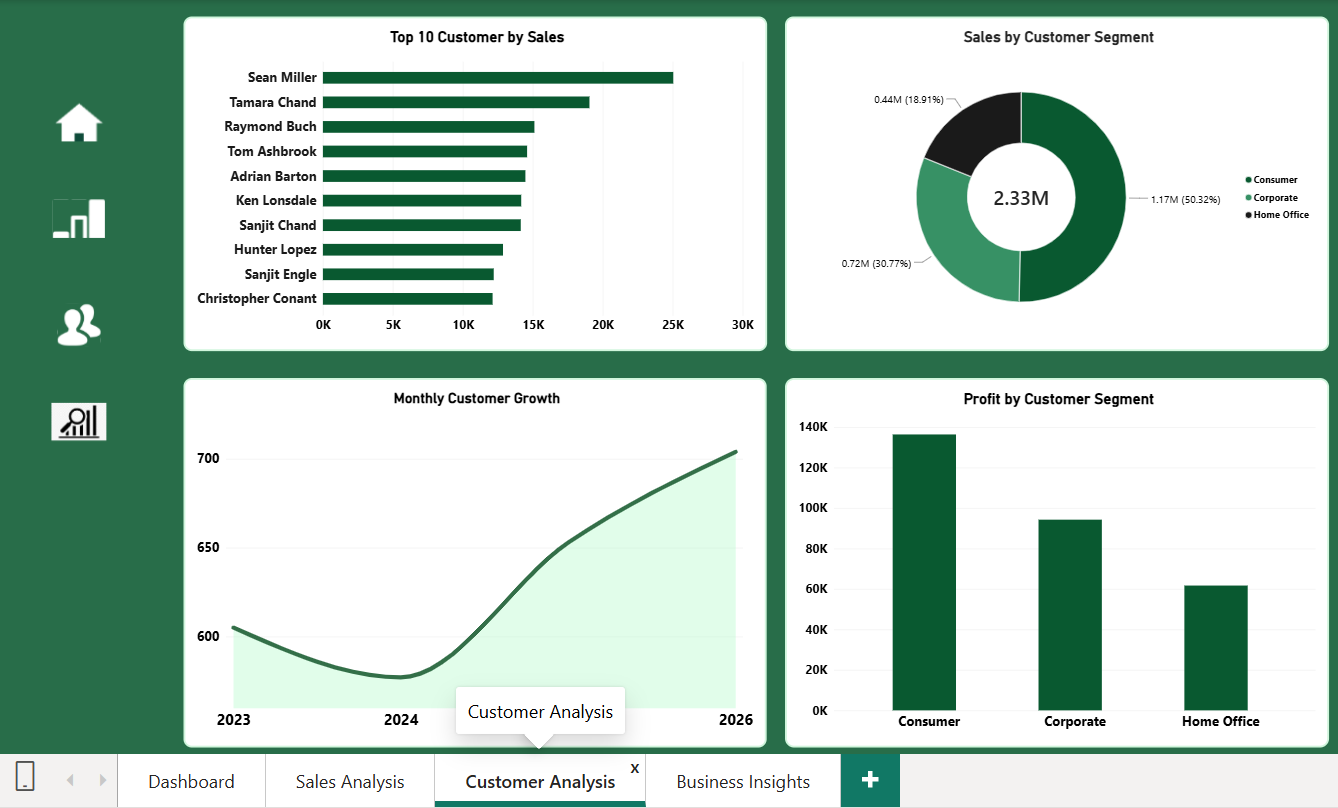

This screenshot's page, from the dashboard's own definition file:
{"tool":"powerbi","page":{"name":"Customer Analysis","canvas":[1920,1080],"ordinal":2},"visuals":[{"type":"actionButton","box":[64.4,133.6,100.2,69.2],"z":0},{"type":"actionButton","box":[64.4,281.5,100.2,59.6],"z":1000},{"type":"actionButton","box":[64.4,429.5,100.2,71.6],"z":2000},{"type":"actionButton","box":[64.4,555.9,100.2,95.4],"z":3000},{"type":"donutChart","title":"Sales by Customer Segment","fields":{"Category":["superstore_project orders.Segment"],"Y":["Sum(superstore_project orders.Sales)"]},"box":[1125.4,22.7,779.5,479.1],"z":4000},{"type":"clusteredBarChart","title":"Top 10 Customer by Sales","fields":{"Category":["superstore_project orders.Customer_Name"],"Y":["Sum(superstore_project orders.Sales)"]},"box":[263.6,22.7,836.2,479.1],"z":5000},{"type":"clusteredColumnChart","title":"Profit by Customer Segment","fields":{"Category":["superstore_project orders.Segment"],"Y":["Sum(superstore_project orders.Profit)"]},"box":[1126.5,541.2,779.4,529.4],"z":6000},{"type":"lineChart","title":"Monthly Customer Growth","fields":{"Category":["superstore_project orders.Order_Date.Variation.Date Hierarchy.Year","superstore_project orders.Order_Date.Variation.Date Hierarchy.Quarter","superstore_project orders.Order_Date.Variation.Date Hierarchy.Month","superstore_project orders.Order_Date.Variation.Date Hierarchy.Day"],"Y":["Count(superstore_project orders.Customer_ID)"]},"box":[264.7,541.2,835.3,529.4],"z":7000}]}

Visuals, with their boxes on the page's 1920x1080 design canvas (x1, y1, x2, y2). These are canvas units, not pixel positions in the 1338x808 screenshot, which may show the page scaled, cropped or inside an application window:
actionButton: select_region(64, 134, 165, 203)
actionButton: select_region(64, 282, 165, 341)
actionButton: select_region(64, 430, 165, 501)
actionButton: select_region(64, 556, 165, 651)
"Sales by Customer Segment" donutChart: select_region(1125, 23, 1905, 502)
"Top 10 Customer by Sales" clusteredBarChart: select_region(264, 23, 1100, 502)
"Profit by Customer Segment" clusteredColumnChart: select_region(1126, 541, 1906, 1071)
"Monthly Customer Growth" lineChart: select_region(265, 541, 1100, 1071)
